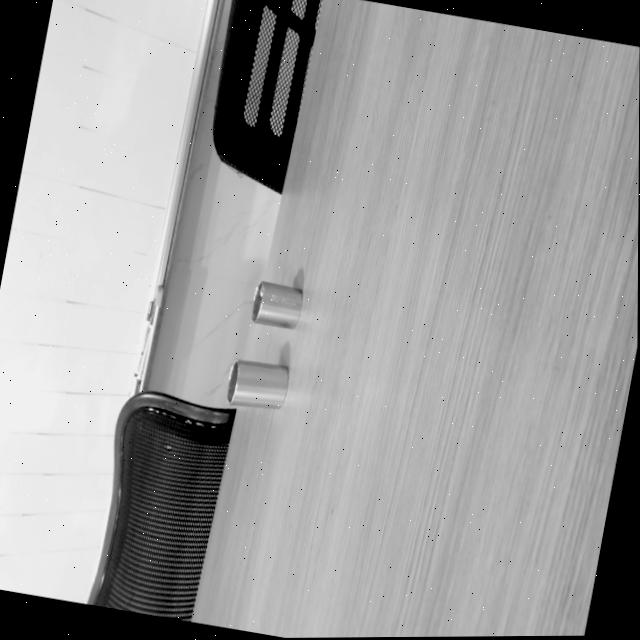Co_Lon: (224, 359, 289, 412)
Co_Nho: (248, 280, 303, 330)
